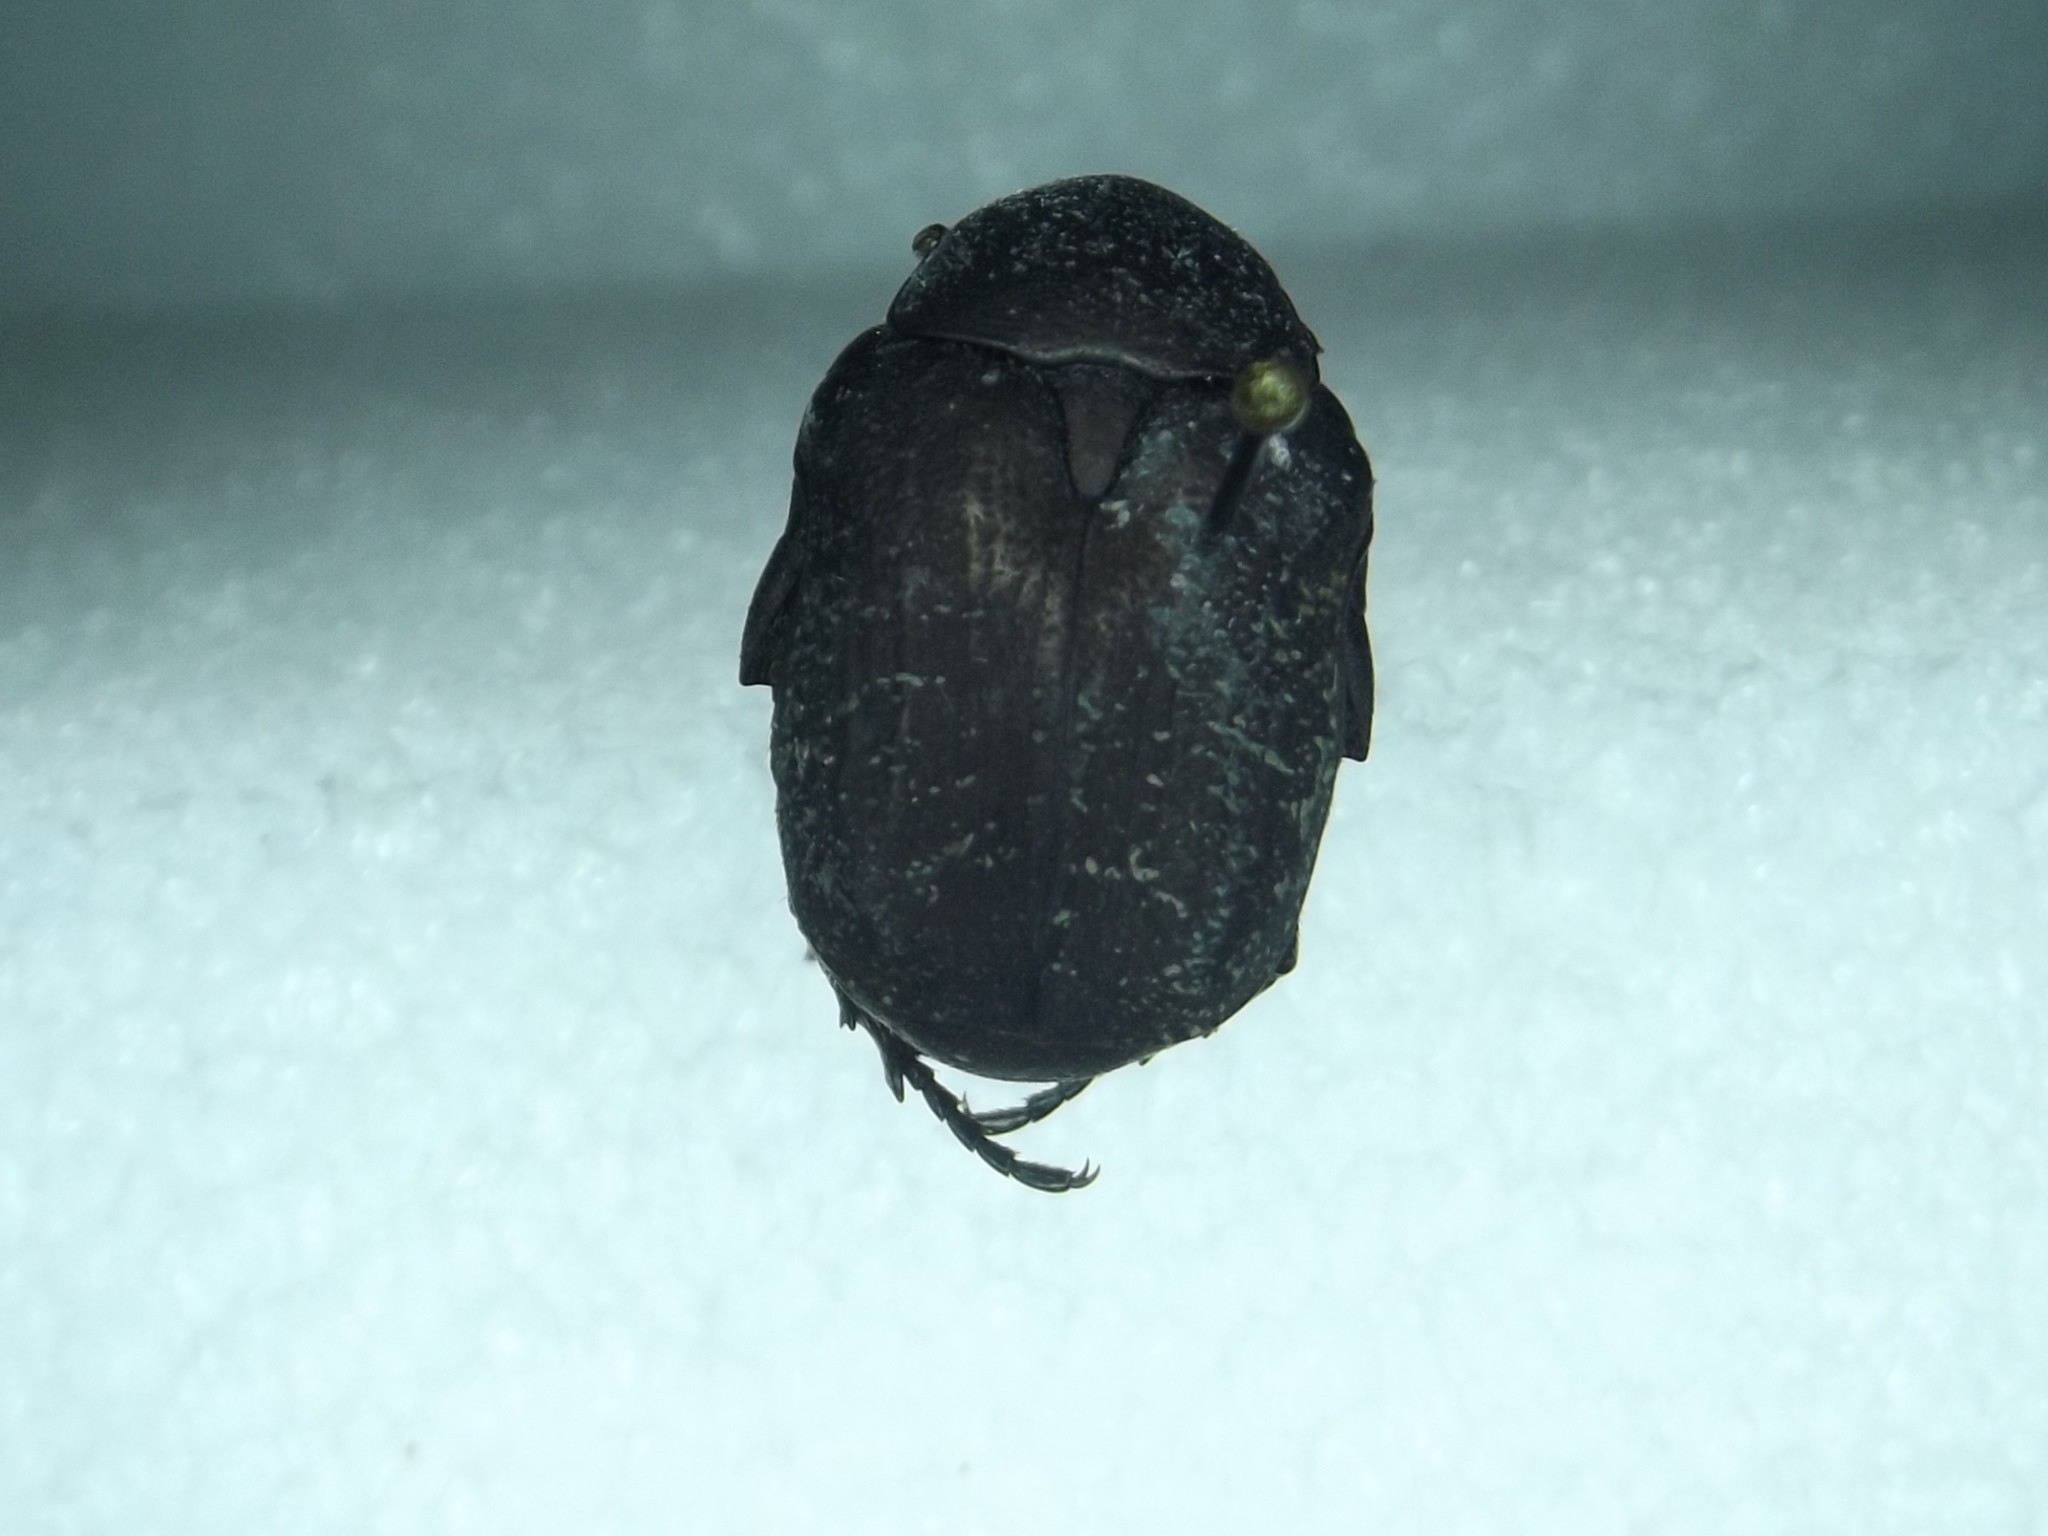Protaetia_asiatica: (719, 148, 1388, 1205)
